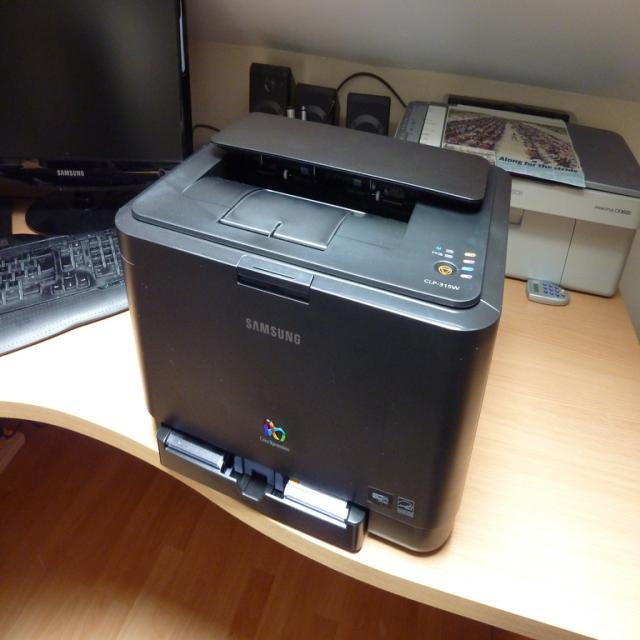printer: (108, 104, 516, 570)
